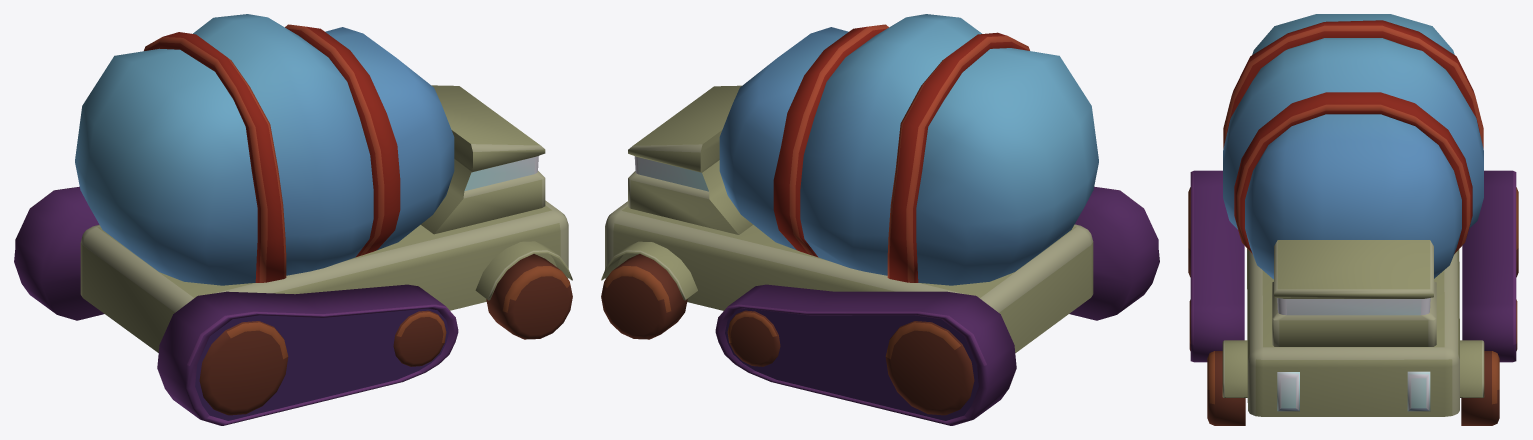
Rendered from CollectorsVertex.fbx.
3 views of the same model, side by side, from view 1: azimuth 30°, elevation 25°; view 2: azimuth 150°, elevation 25°; view 3: azimuth 270°, elevation 25° (orthographic). The views are drawn at different scales.
Parts seen in each view (by area): view 1: Cube; view 2: Cube; view 3: Cube.
Boxes of the visible parts, bbox=[...] form: Cube: bbox=[14, 14, 572, 425]; Cube: bbox=[601, 14, 1159, 425]; Cube: bbox=[1188, 14, 1518, 425].
Size of the model in its own units: 219 by 150 by 158.
